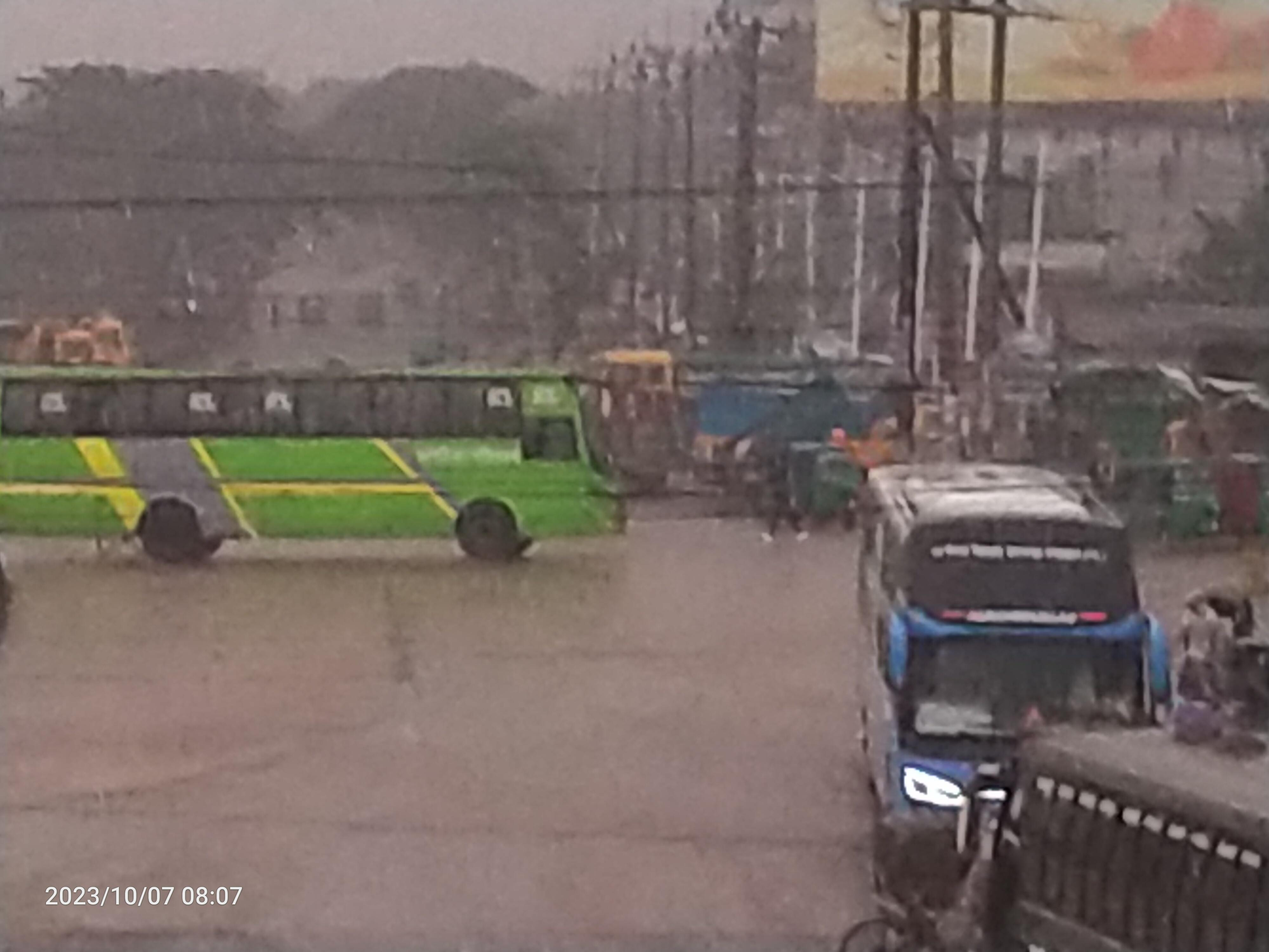Bus: (0, 340, 645, 595), (822, 446, 1172, 791), (970, 680, 1269, 952)
Car: (808, 799, 983, 952)
